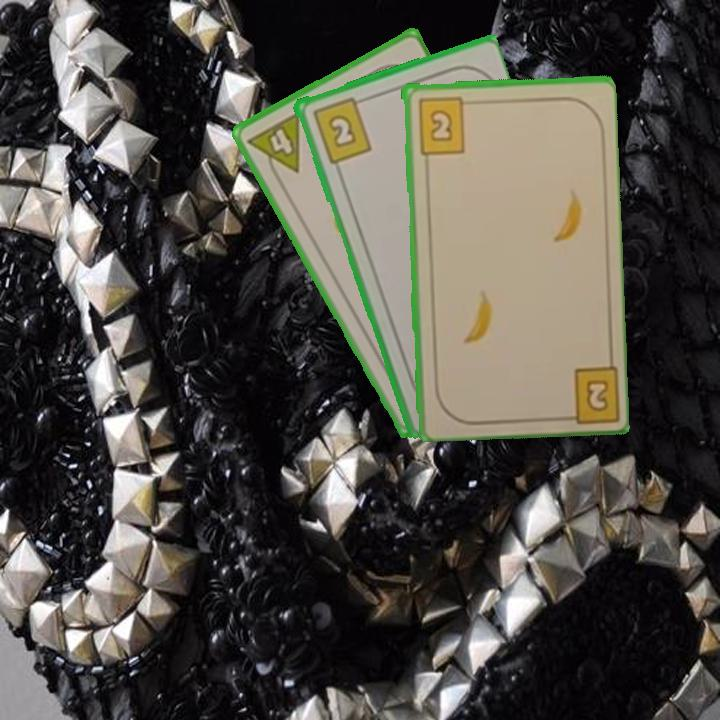2b: (308, 93, 375, 166), (554, 360, 619, 423), (414, 93, 475, 156)
4p: (244, 108, 303, 186)
